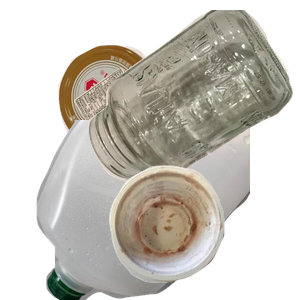glass: (86, 10, 300, 184)
metal: (56, 43, 211, 187)
plastic: (34, 120, 274, 300)
trash: (107, 163, 300, 300)
